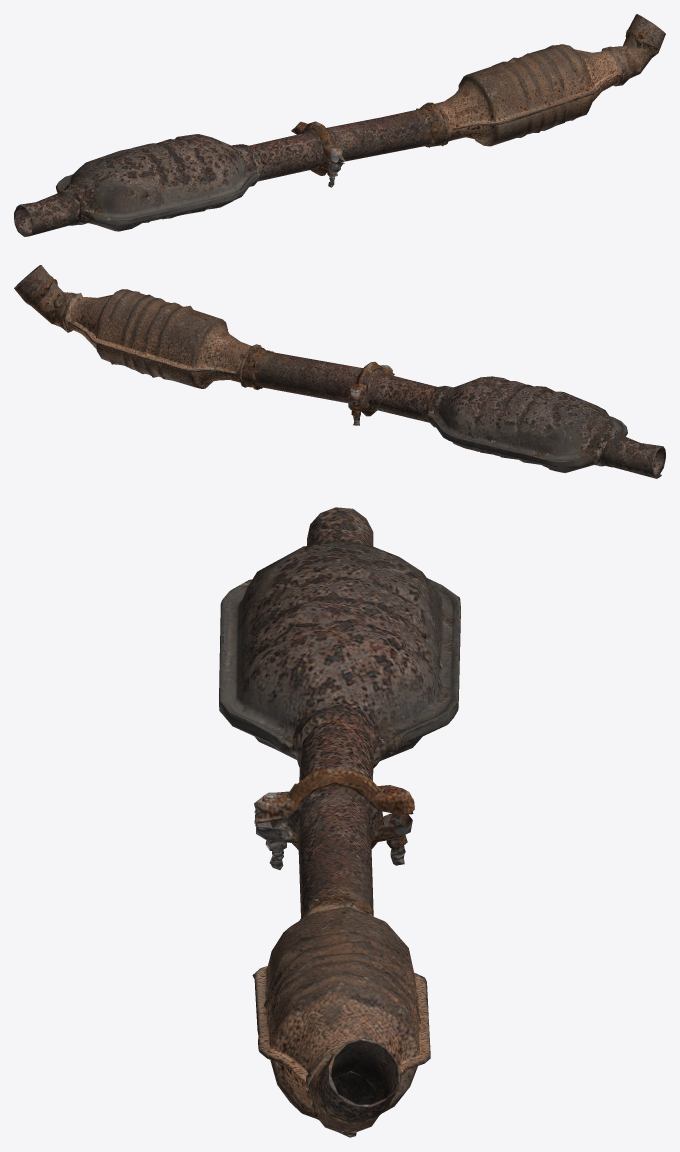
The model's file is SM_Ind_Jun_Exhaust_Car_Metal_Rusty_05.gltf.
The picture shows the model from 3 angles, top to bottom: view 1: azimuth 30°, elevation 25°; view 2: azimuth 150°, elevation 25°; view 3: azimuth 270°, elevation 25°; orthographic projection. The views are drawn at different scales.
Parts seen in each view (by area): view 1: SM_Ind_Jun_Exhaust_Car_Metal_Rusty_05; view 2: SM_Ind_Jun_Exhaust_Car_Metal_Rusty_05; view 3: SM_Ind_Jun_Exhaust_Car_Metal_Rusty_05.
Part boxes in pixels (x1,y1,x2,y2): SM_Ind_Jun_Exhaust_Car_Metal_Rusty_05: (14, 14, 665, 236); SM_Ind_Jun_Exhaust_Car_Metal_Rusty_05: (14, 265, 665, 478); SM_Ind_Jun_Exhaust_Car_Metal_Rusty_05: (219, 507, 460, 1137).
Bounding box in the file's own units: 1.02 × 0.1273 × 0.1681.
Materials: 1 (1 with a texture image).
